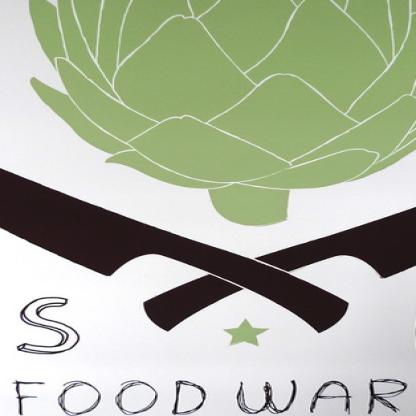knife: (0, 134, 374, 346)
